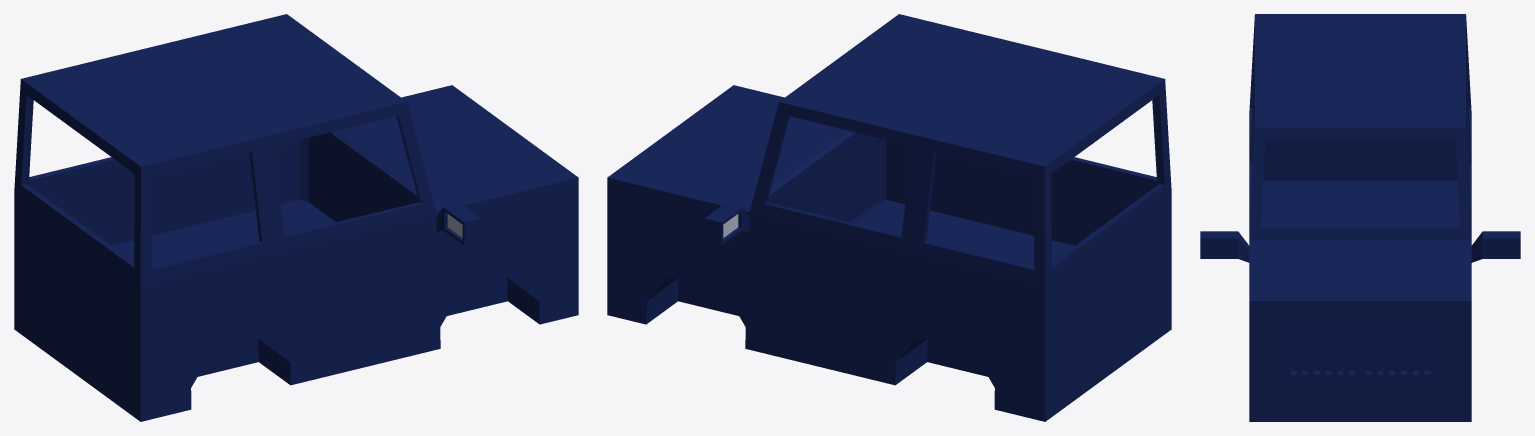
The model's file is Car.glb.
3 views of the same model, side by side, from view 1: azimuth 30°, elevation 25°; view 2: azimuth 150°, elevation 25°; view 3: azimuth 270°, elevation 25° (orthographic). The views are drawn at different scales.
Parts seen in each view (by area): view 1: Cube.042; view 2: Cube.042; view 3: Cube.042.
Boxes of the visible parts, x1,y1,x2,y2 form: Cube.042: (14,14,578,421); Cube.042: (607,14,1171,421); Cube.042: (1200,14,1520,421).
Size of the model in its own units: 0.129 by 0.0709 by 0.0929.
1 material, 1 textured.
